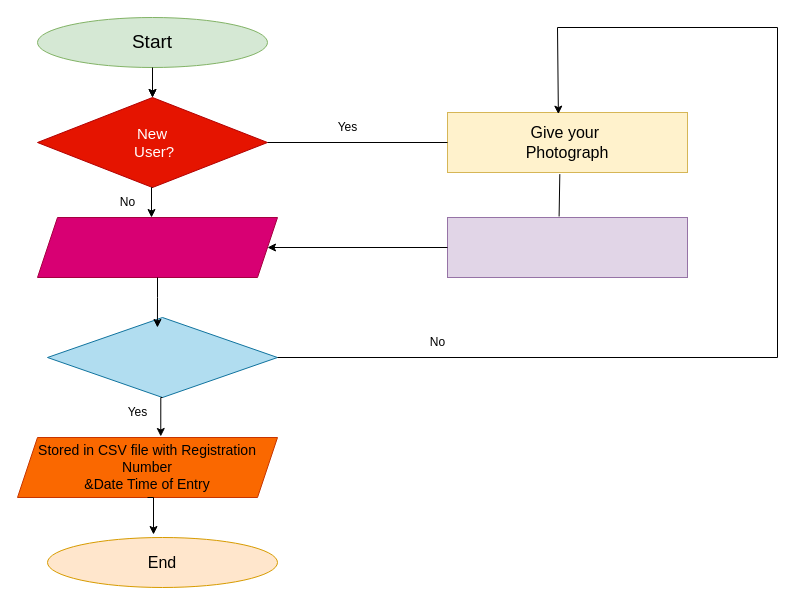
Some shapes in this 796 by 605 pixel diagram are drawn without their labels. The shapes that lost their labels are listed below. From the top down, each one's centre as x and y in pixels, then its label:
(x=157, y=247): Recognize the face run face_recognition py
(x=567, y=247): store the face data in folder on your name
(x=162, y=357): Face Recognized
